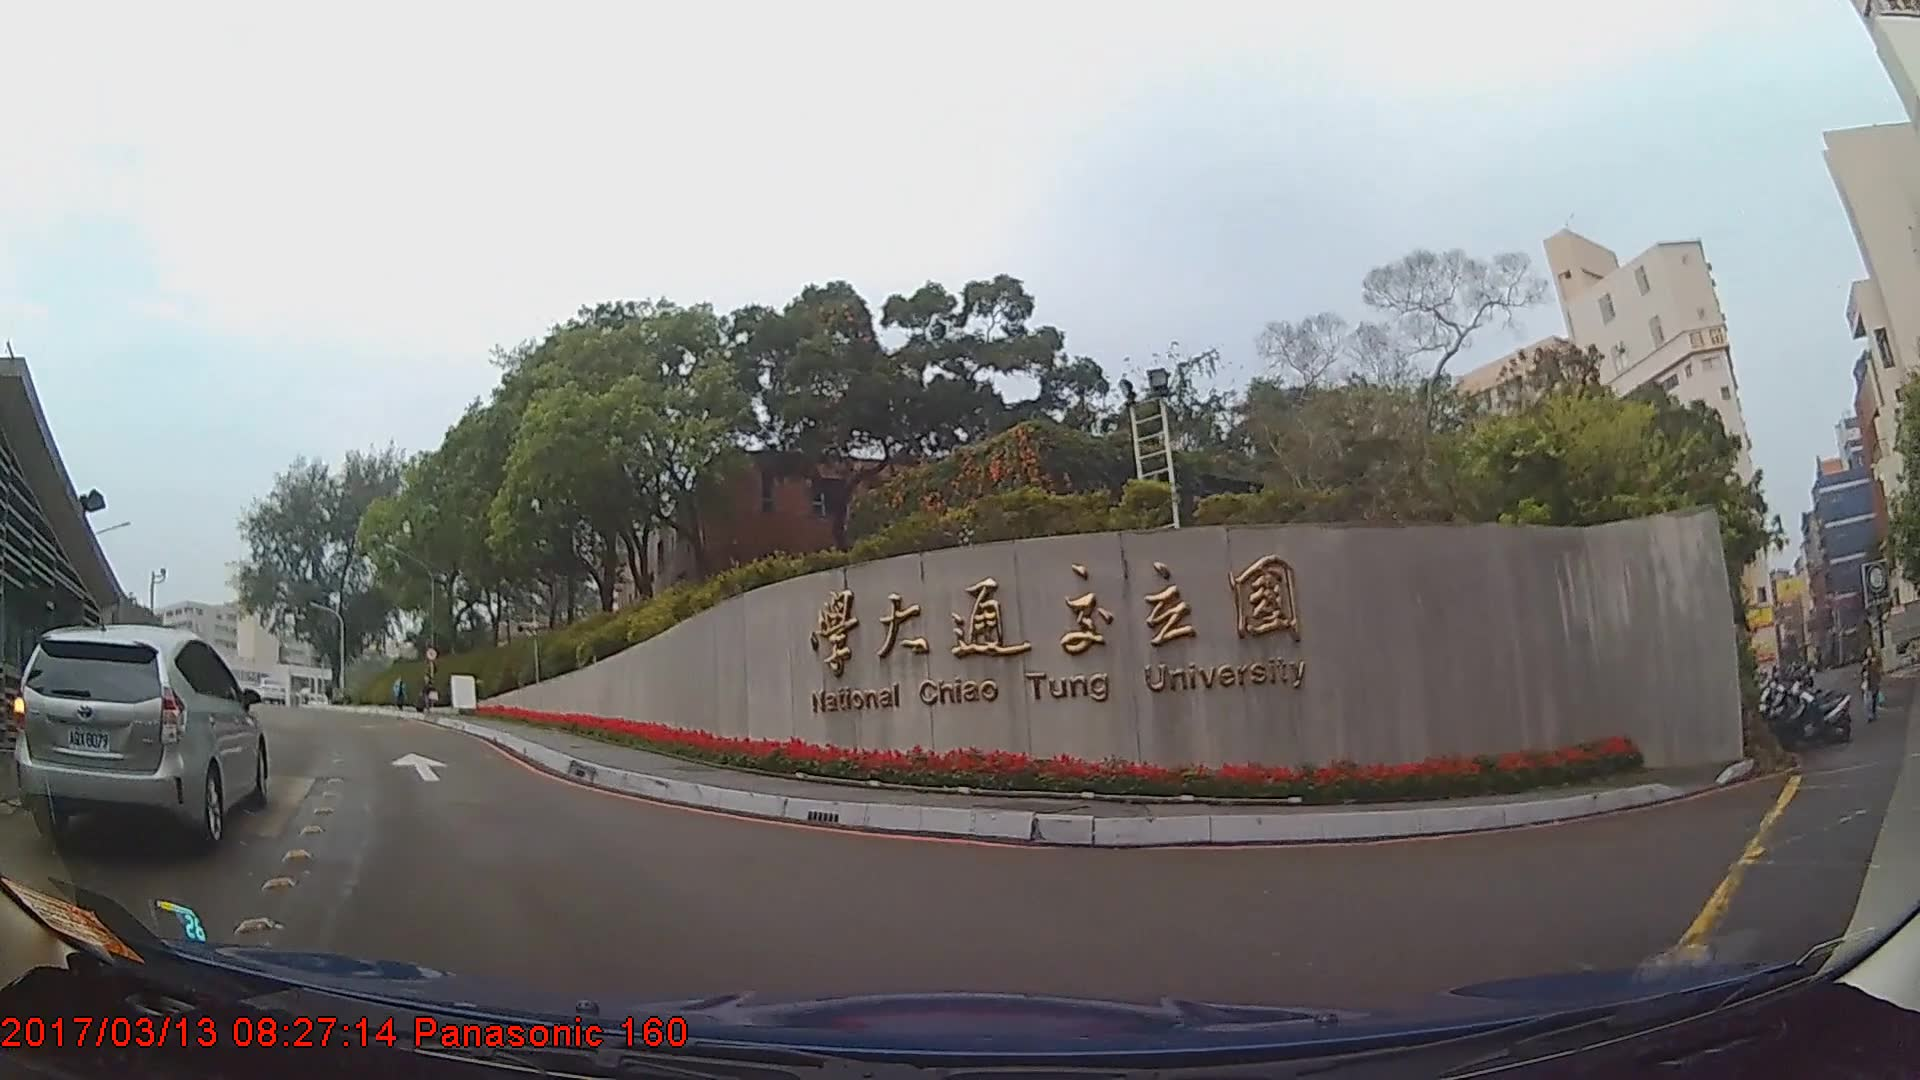pedestrian: (1860, 647, 1884, 726)
vehicle: (15, 623, 268, 853), (254, 676, 287, 704)
